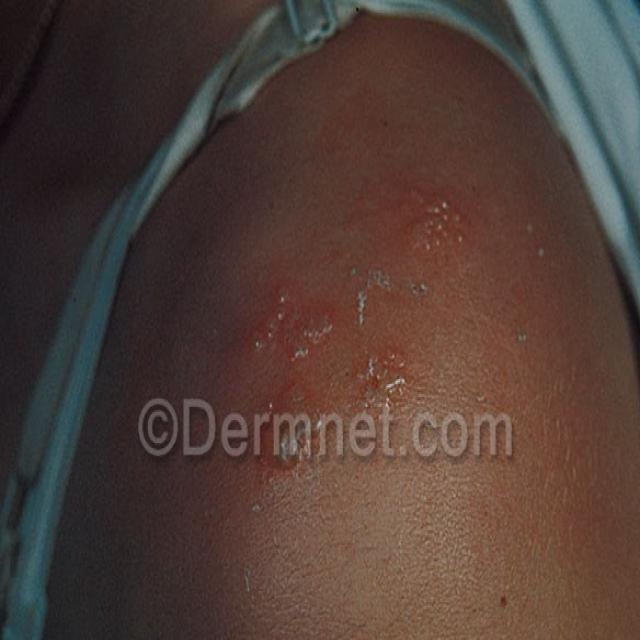Viral Infections: (244, 207, 520, 492)
